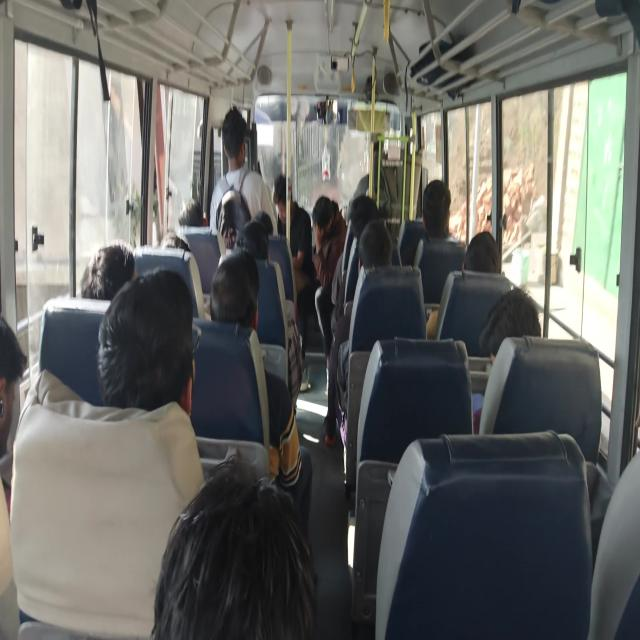person: (9, 267, 204, 638), (150, 450, 317, 639), (208, 247, 312, 538), (323, 219, 393, 445), (96, 267, 196, 416), (472, 287, 542, 434), (208, 106, 278, 239), (0, 313, 27, 637), (426, 230, 500, 339), (311, 195, 347, 380), (479, 286, 541, 366), (272, 173, 312, 293), (412, 178, 459, 267), (80, 243, 136, 300), (216, 188, 250, 254), (421, 178, 454, 240), (462, 230, 500, 274), (178, 198, 206, 227), (159, 230, 191, 250)
